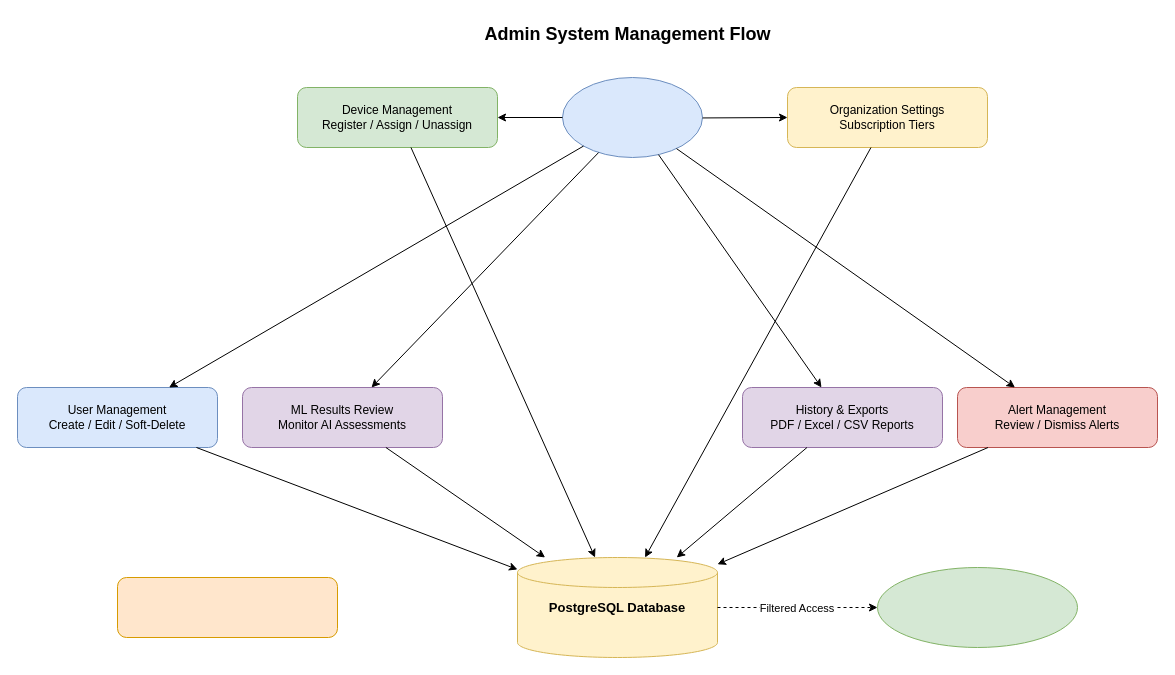
The diagram is 1175 pixels wide and 675 high, and some of its shapes have lost their labels. Here are the shapes that lost their labels. From the top down, the box of each, then its label:
(562, 76, 702, 158): Admin User
(116, 576, 338, 638): All actions pass through Flask REST API (JWT secured)
(876, 566, 1078, 648): Farmer (Sees filtered view only)
